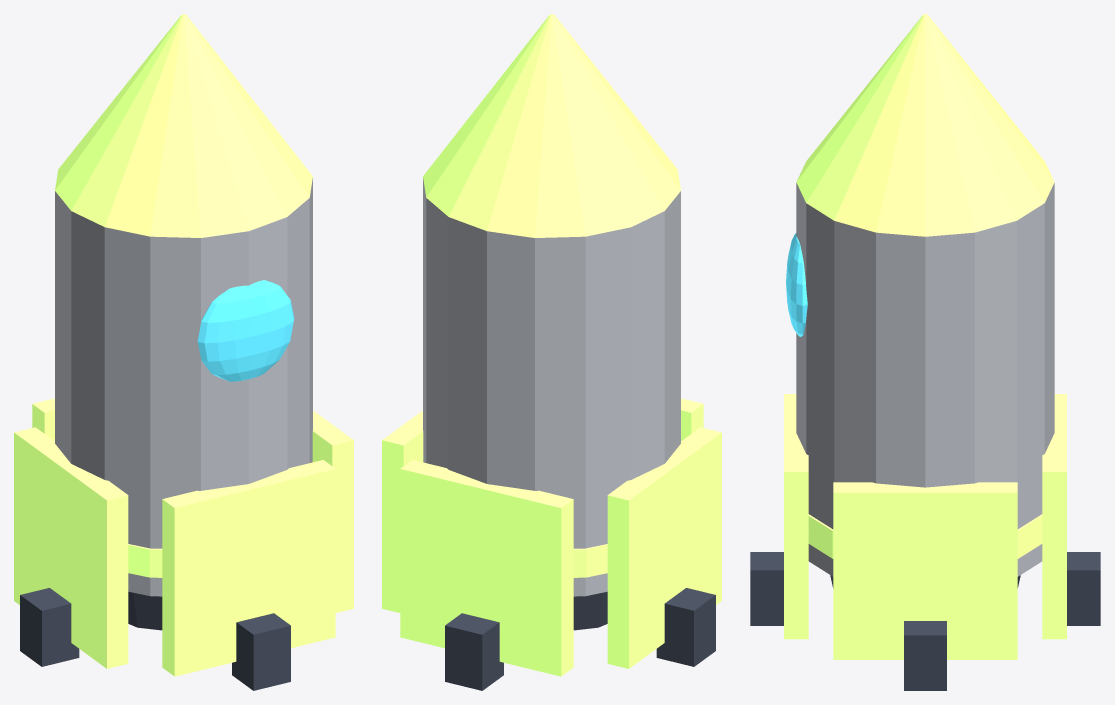
File: cohete.glb
3 renders of one model, left to right at view 1: azimuth 30°, elevation 25°; view 2: azimuth 150°, elevation 25°; view 3: azimuth 270°, elevation 25°, orthographic.
Parts seen in each view (by area): view 1: cohete; view 2: cohete; view 3: cohete.
Part boxes in pixels (x1=…): cohete: x1=14, y1=14, x2=353, y2=690; cohete: x1=382, y1=14, x2=721, y2=690; cohete: x1=750, y1=14, x2=1100, y2=690.
Size of the model in its own units: 2.85 by 5.4 by 2.85.
